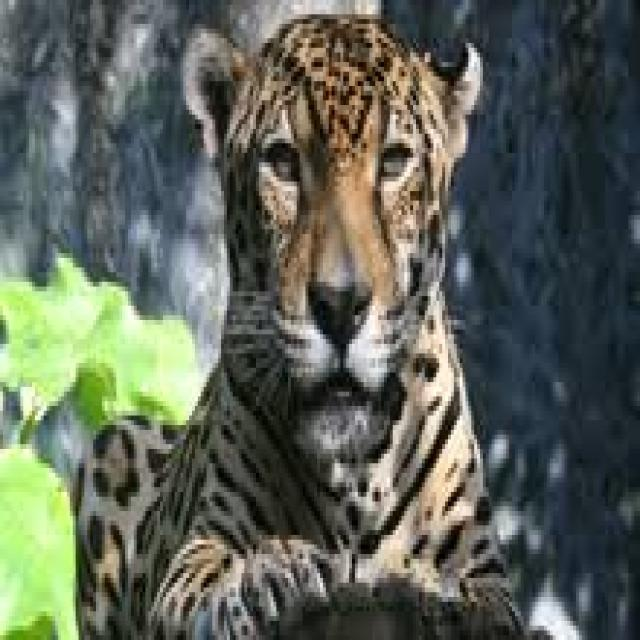Jaguar: (82, 33, 509, 621)
